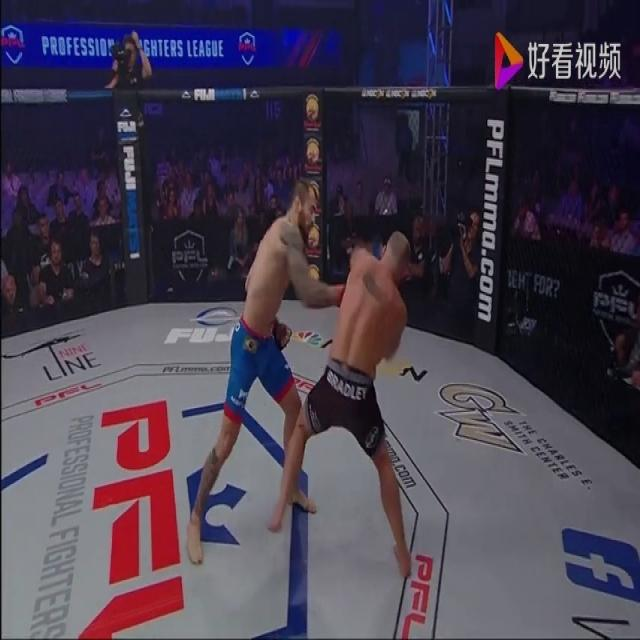fight: (188, 170, 423, 634)
